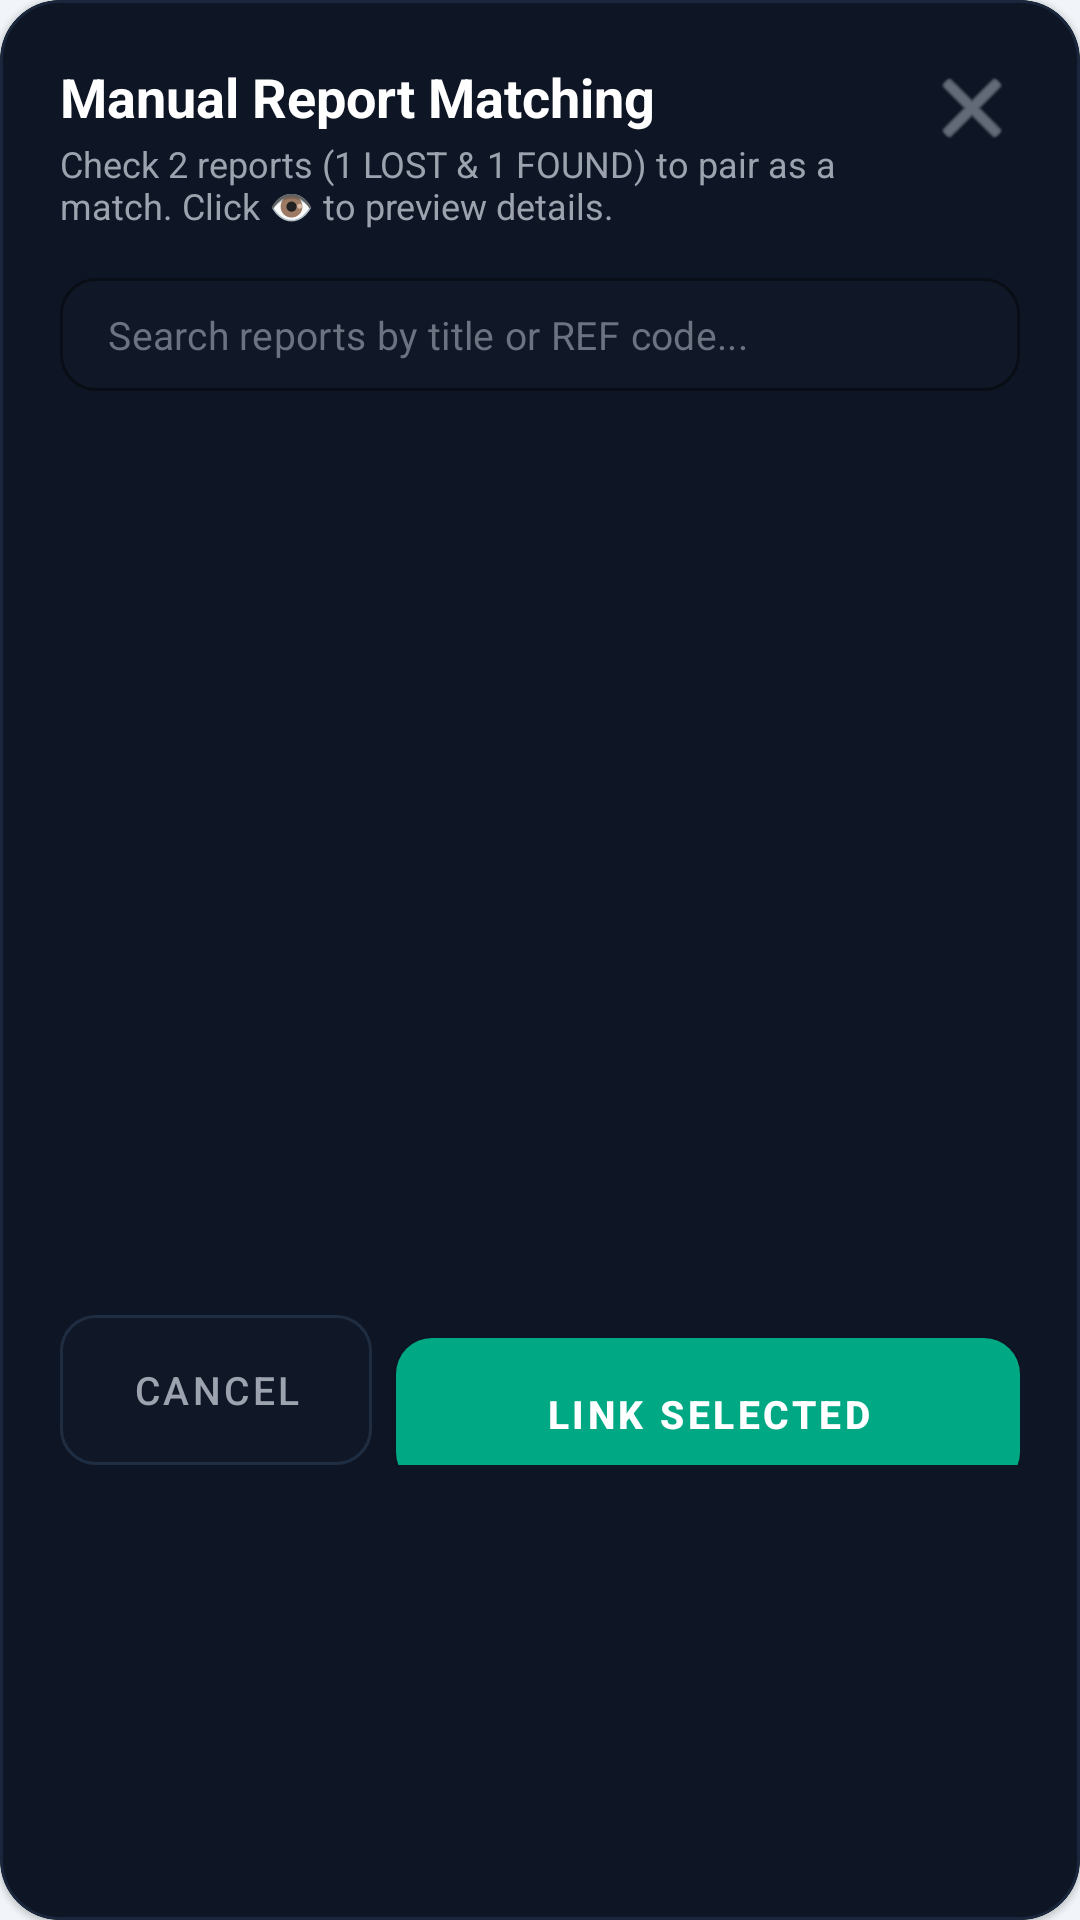

Icons on this 1080×1920 Android screen, each with its box as (x1, y1, x2, y2):
Close: (942, 78, 1002, 138)
